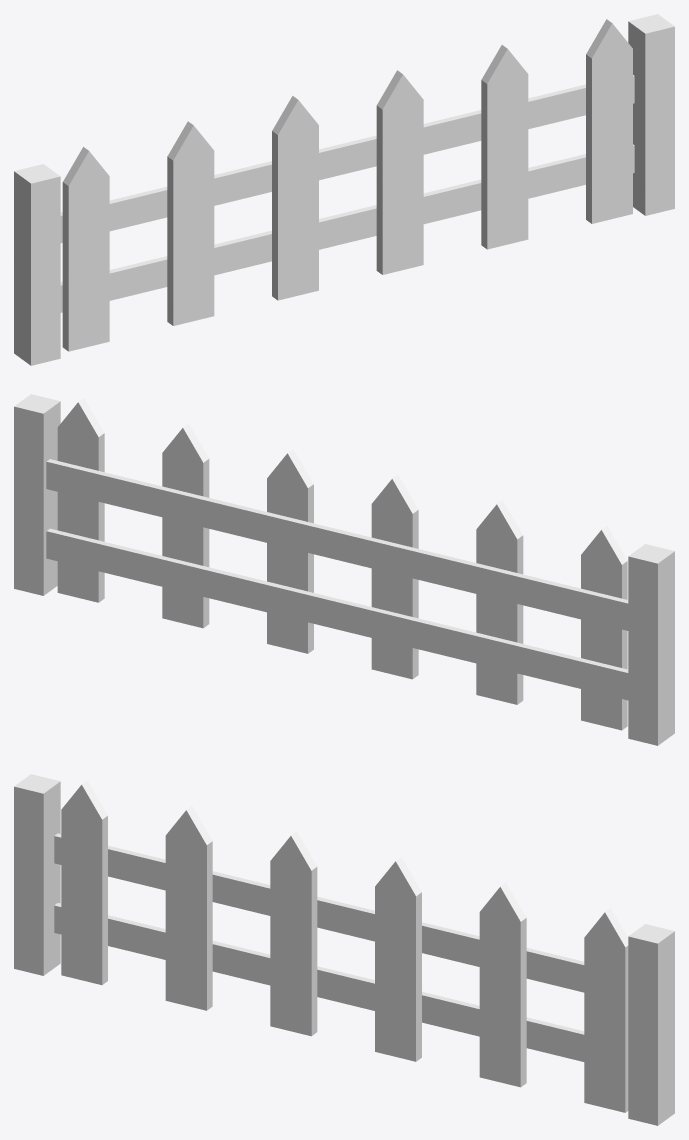
Rendered from Fence Tile_1.fbx.
3 renders of one model, top to bottom at view 1: azimuth 30°, elevation 25°; view 2: azimuth 150°, elevation 25°; view 3: azimuth 330°, elevation 25°, orthographic.
Visible parts, largest first — view 1: Fence Tile_1; view 2: Fence Tile_1; view 3: Fence Tile_1.
Part boxes in pixels (left/top/right/bottom): Fence Tile_1: left=14, top=14, right=674, bottom=365; Fence Tile_1: left=14, top=394, right=674, bottom=745; Fence Tile_1: left=14, top=774, right=674, bottom=1125.
Size of the model in its own units: 421 by 123 by 19.36.
